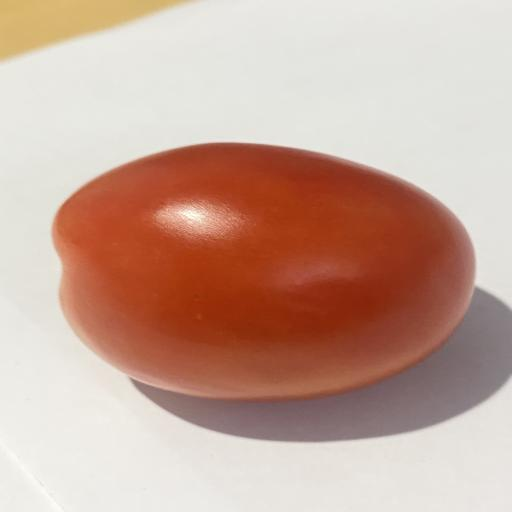ripe: (53, 143, 475, 401)
